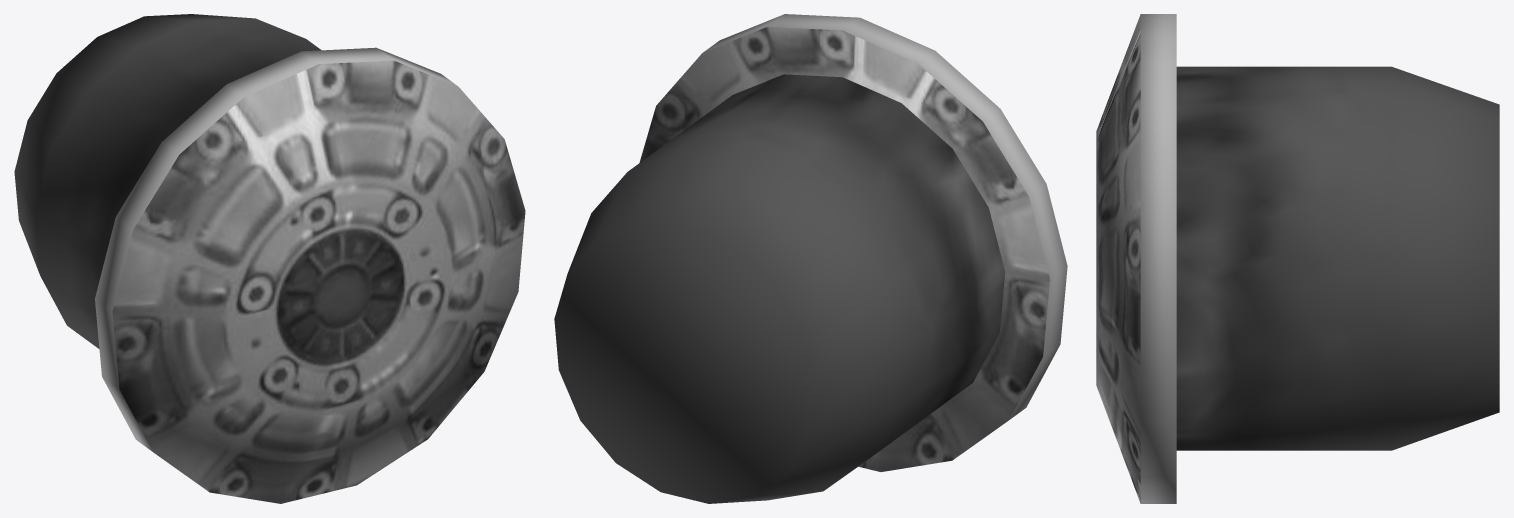
The model's file is middle_right_wheel_118.dae.
The picture shows the model from 3 angles, left to right: view 1: azimuth 30°, elevation 25°; view 2: azimuth 150°, elevation 25°; view 3: azimuth 270°, elevation 25°; orthographic projection. The views are drawn at different scales.
Parts seen in each view (by area): view 1: node; view 2: node; view 3: node.
Part boxes in pixels (bbox=[...]): node: bbox=[14, 14, 525, 503]; node: bbox=[554, 14, 1067, 503]; node: bbox=[1096, 14, 1499, 503].
Size of the model in its own units: 0.1774 by 0.1458 by 0.1766.
Materials: 1 (1 with a texture image).
